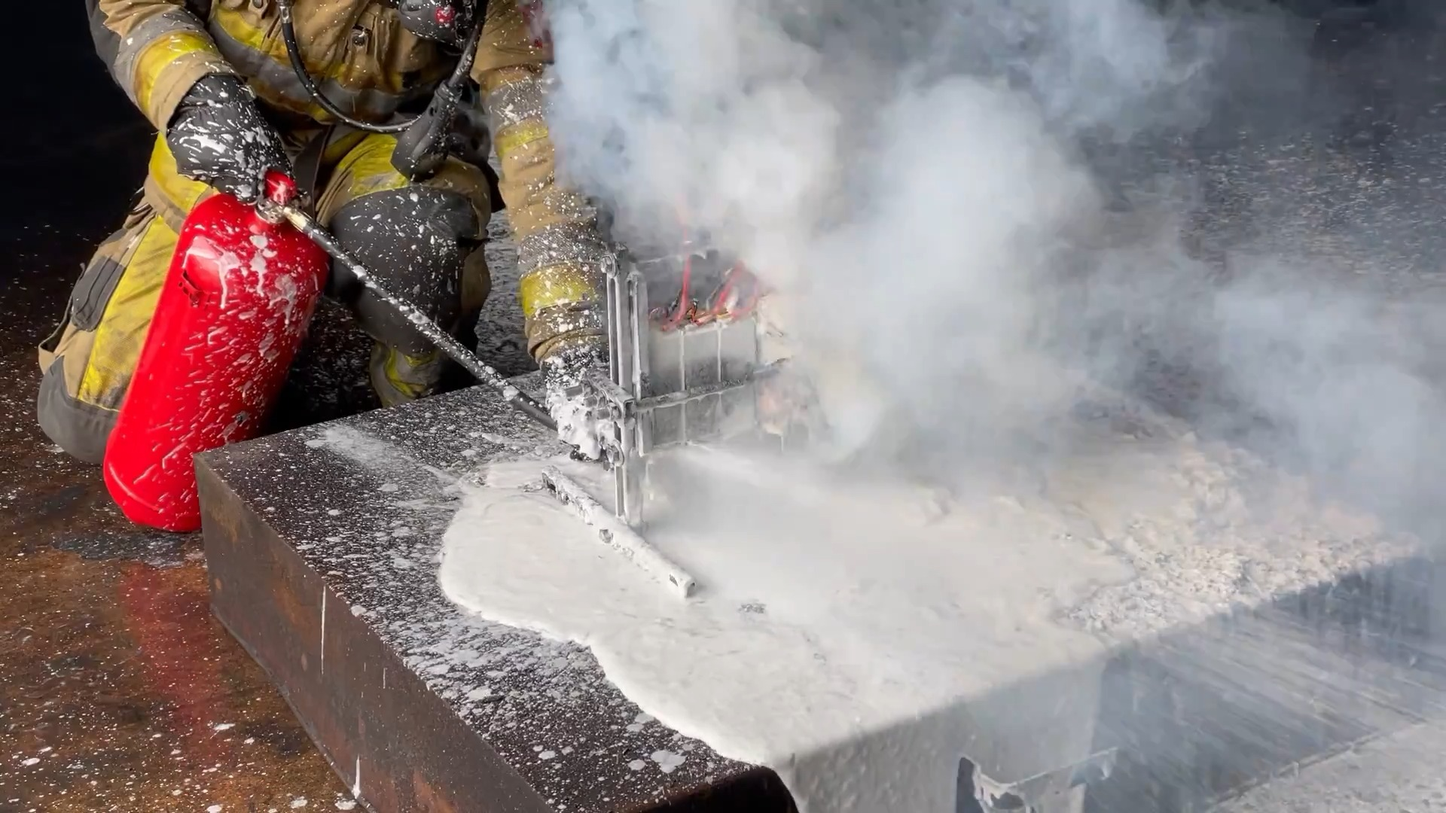smoke: (541, 0, 1222, 483)
